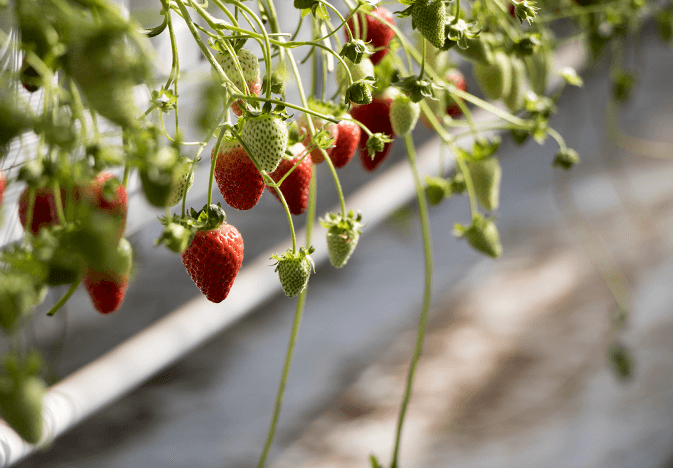ripe_strawberry: (19, 172, 131, 249), (182, 221, 246, 305), (350, 88, 408, 175), (209, 132, 268, 211), (83, 238, 135, 317), (267, 143, 314, 216), (344, 6, 396, 68), (328, 114, 361, 169)
unripe_strawberry: (210, 47, 263, 117), (1, 375, 49, 447), (240, 112, 291, 176), (296, 111, 339, 166), (467, 157, 502, 213), (411, 1, 447, 51), (465, 217, 505, 261), (327, 219, 361, 270), (277, 252, 313, 299), (166, 157, 197, 209), (390, 93, 421, 139), (344, 40, 365, 65)
